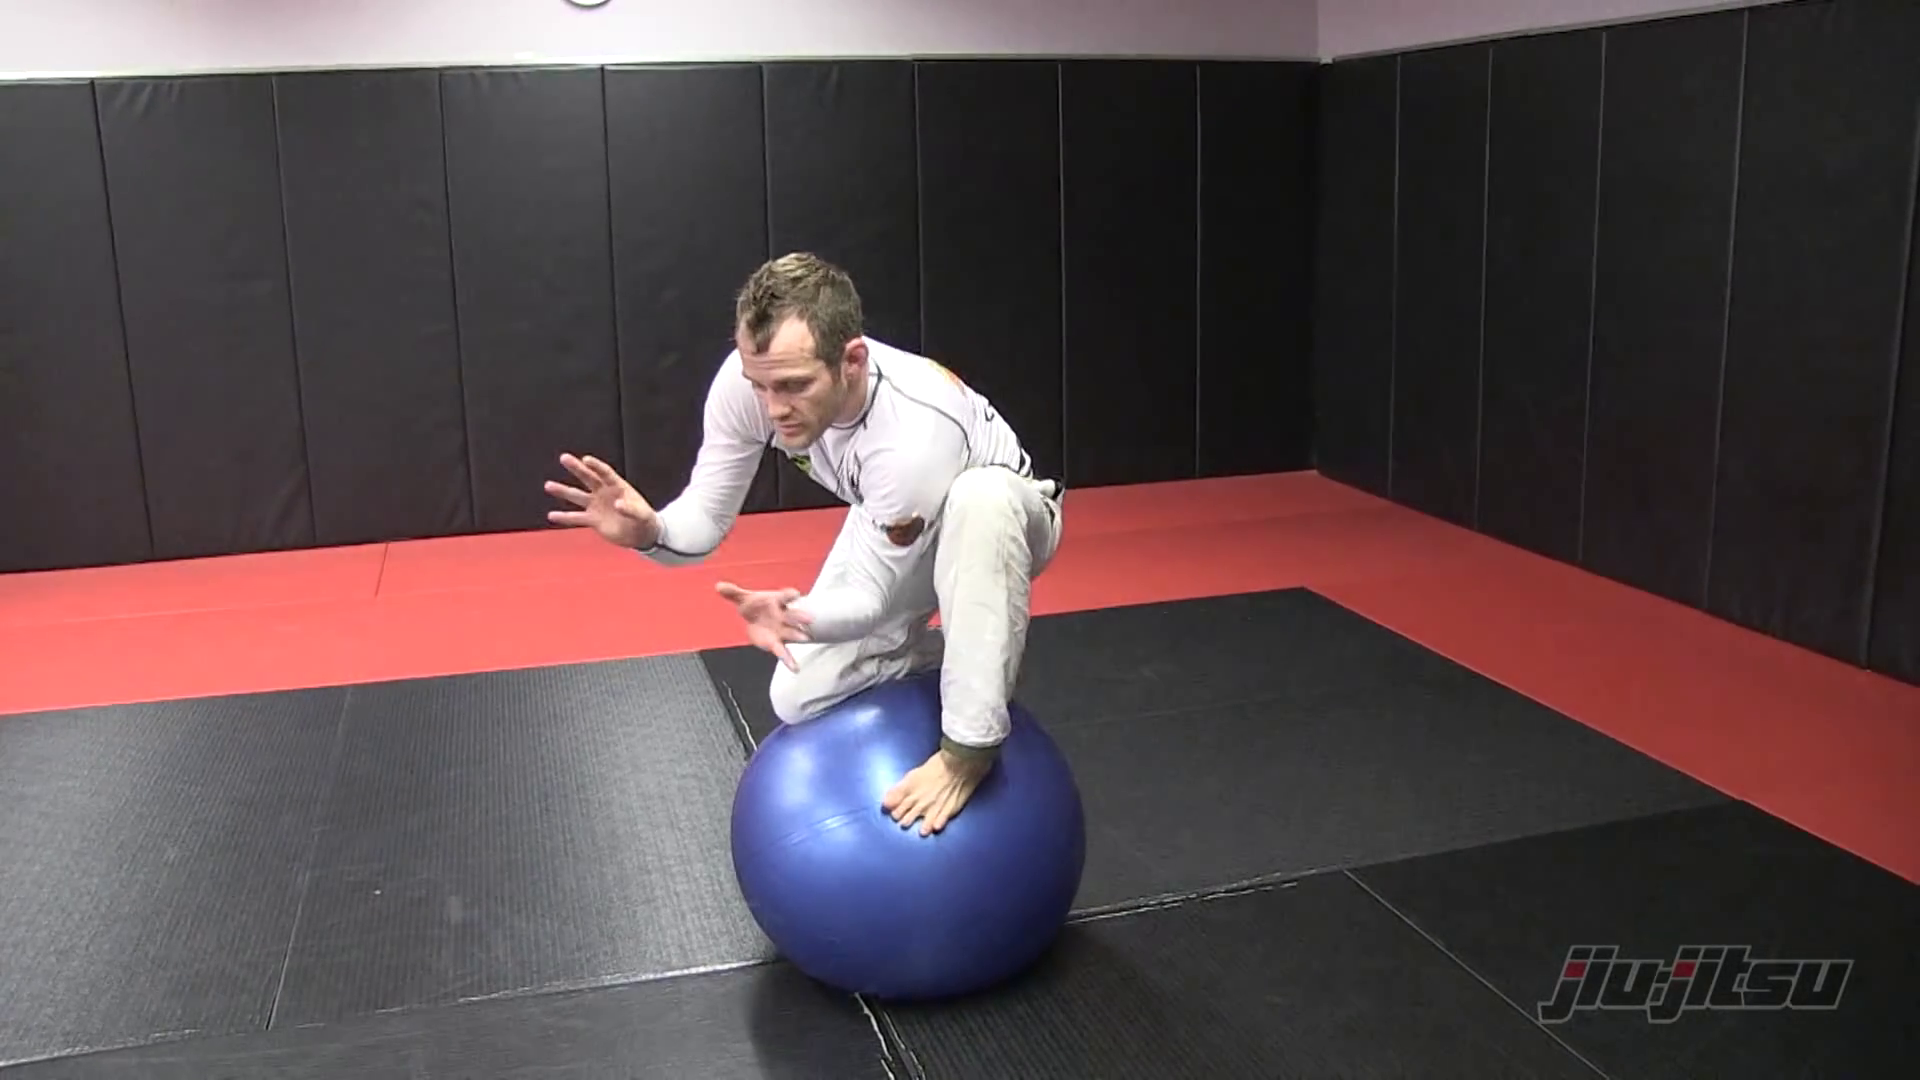yogaball: (713, 673, 1116, 1025)
